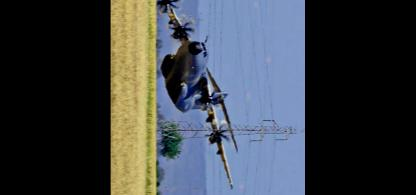A400M: (156, 0, 239, 190)
